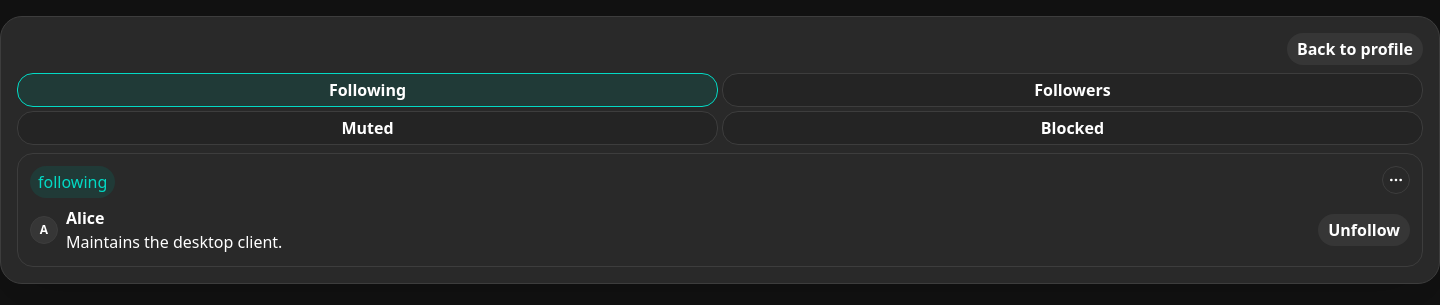
Test: the following view keeps its own action beside the user information
What coordinates should you click on to do the following:
click the button "Unfollow"
I would click on:
 (1364, 230)
Its box is [1318,214,1410,246].
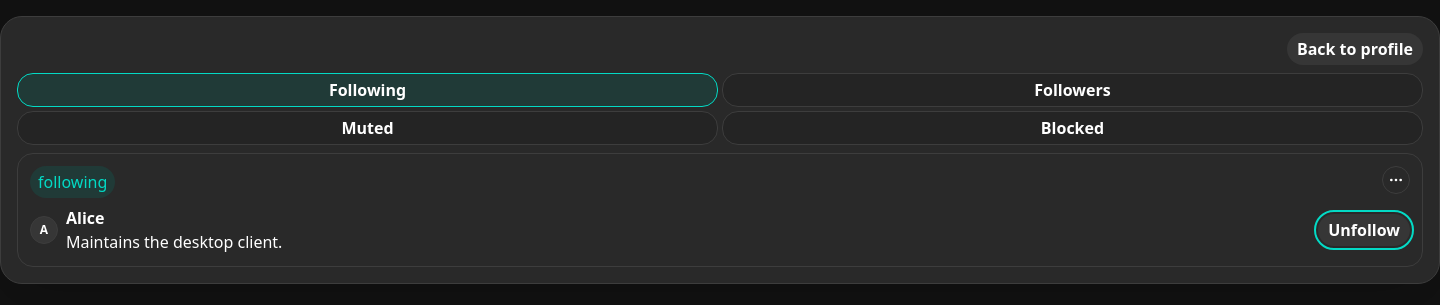
What coordinates should you click on to do the following:
click the button named "Actions for Alice"
I would click on:
 (1396, 180)
Its box is [1382,166,1410,194].
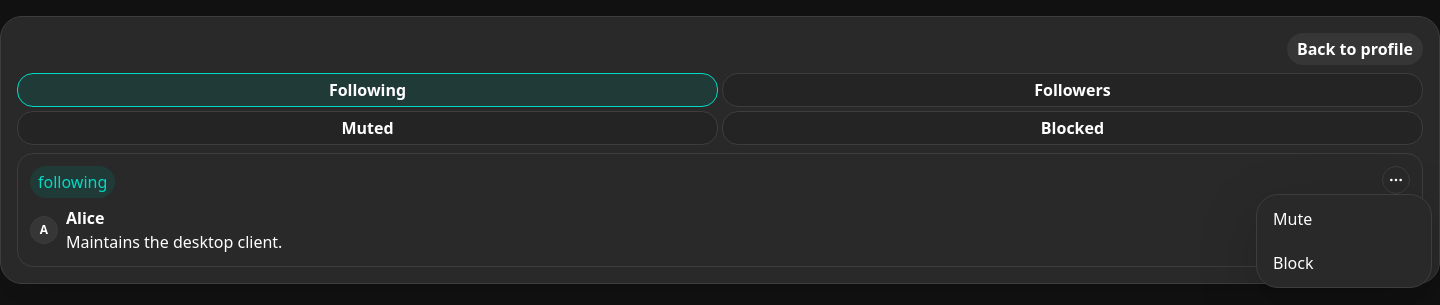
expect the number of menu items is 2: met, box [1261,199,1427,239]; [1261,243,1427,283]
